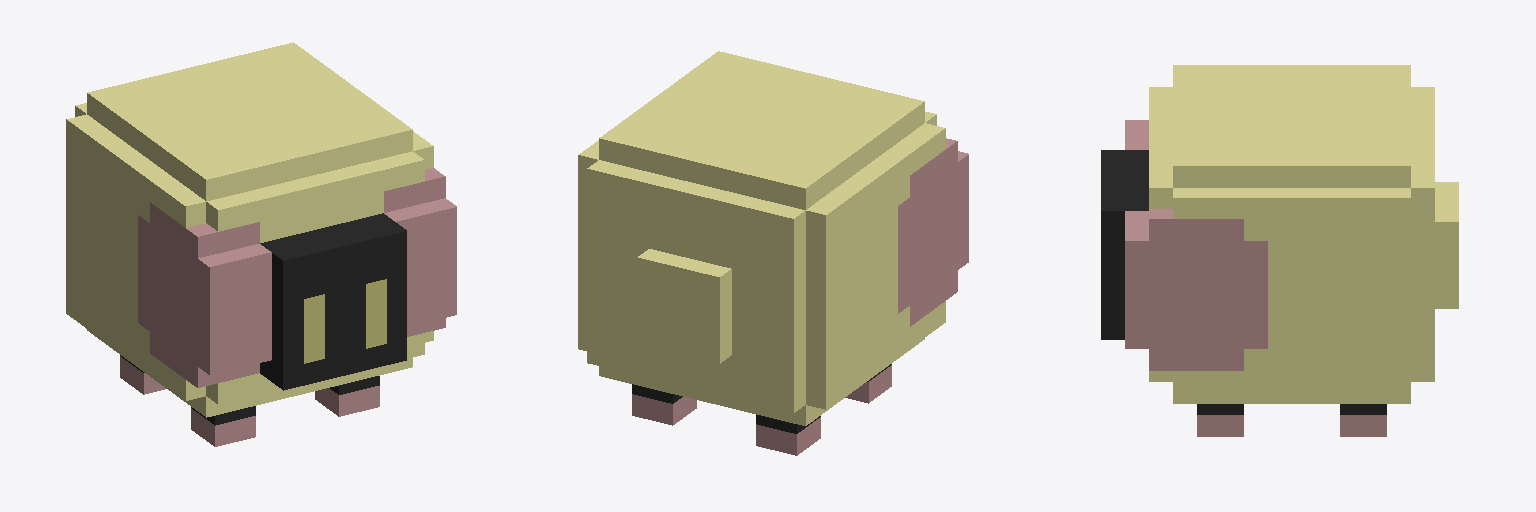
3 renders of one model, left to right at view 1: azimuth 30°, elevation 25°; view 2: azimuth 150°, elevation 25°; view 3: azimuth 270°, elevation 25°, orthographic.
Parts seen in each view (by area): view 1: object 1; view 2: object 1; view 3: object 1.
Part boxes in pixels (bbox=[...]): object 1: bbox=[66, 42, 456, 446]; object 1: bbox=[578, 51, 968, 455]; object 1: bbox=[1101, 65, 1458, 436].
Bounding box in the file's own units: 1.2 × 1.3 × 1.5.
Materials: 1 (1 with a texture image).